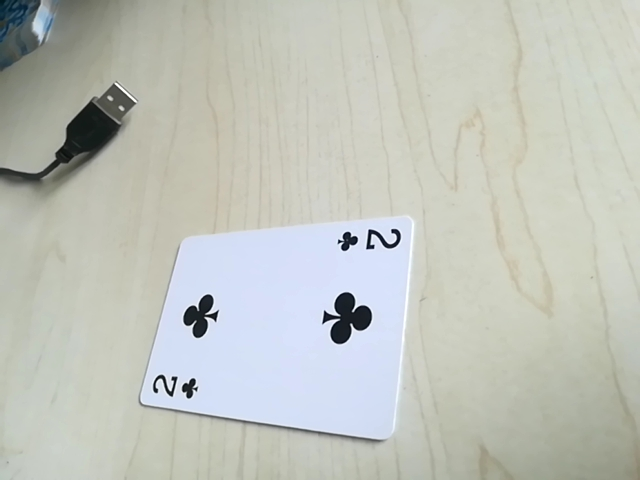mh 2: (333, 221, 404, 257), (143, 368, 205, 407)
